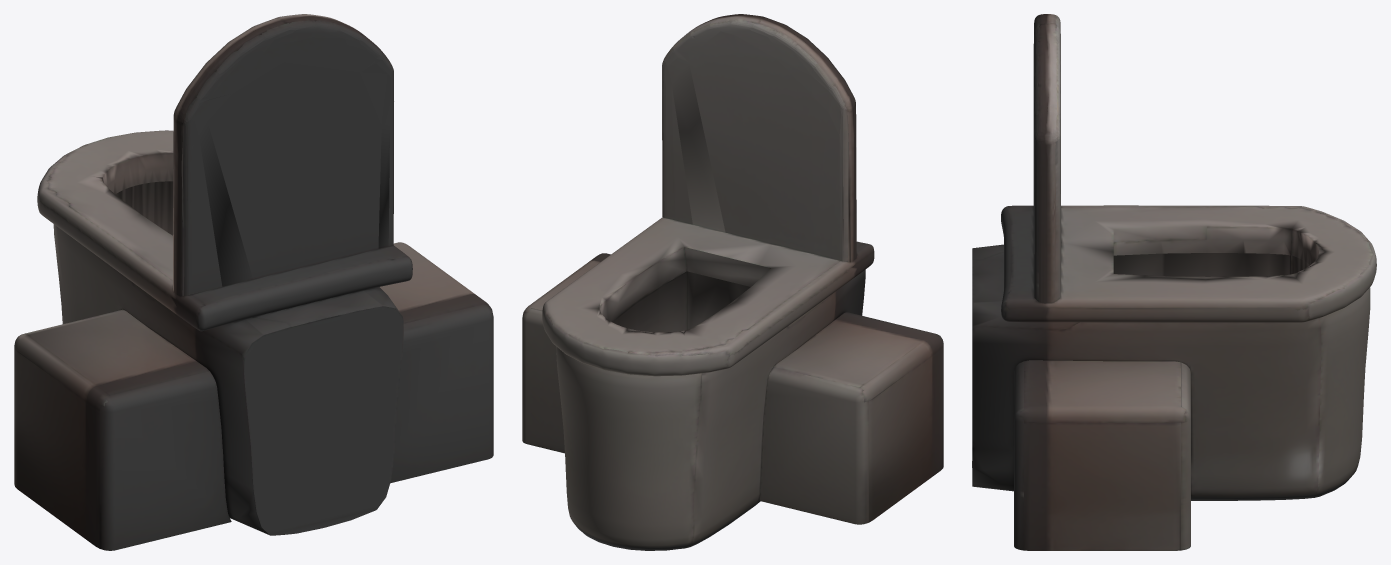
3 renders of one model, left to right at view 1: azimuth 30°, elevation 25°; view 2: azimuth 150°, elevation 25°; view 3: azimuth 270°, elevation 25°, orthographic. The views are drawn at different scales.
Visible parts, largest first — view 1: sb_modello; view 2: sb_modello; view 3: sb_modello.
Part boxes in pixels (left/top/right/bottom): sb_modello: left=14, top=14, right=493, bottom=550; sb_modello: left=522, top=14, right=943, bottom=550; sb_modello: left=972, top=14, right=1376, bottom=550.
Size of the model in its own units: 0.6872 by 0.8 by 0.6593.
1 material, 1 textured.
